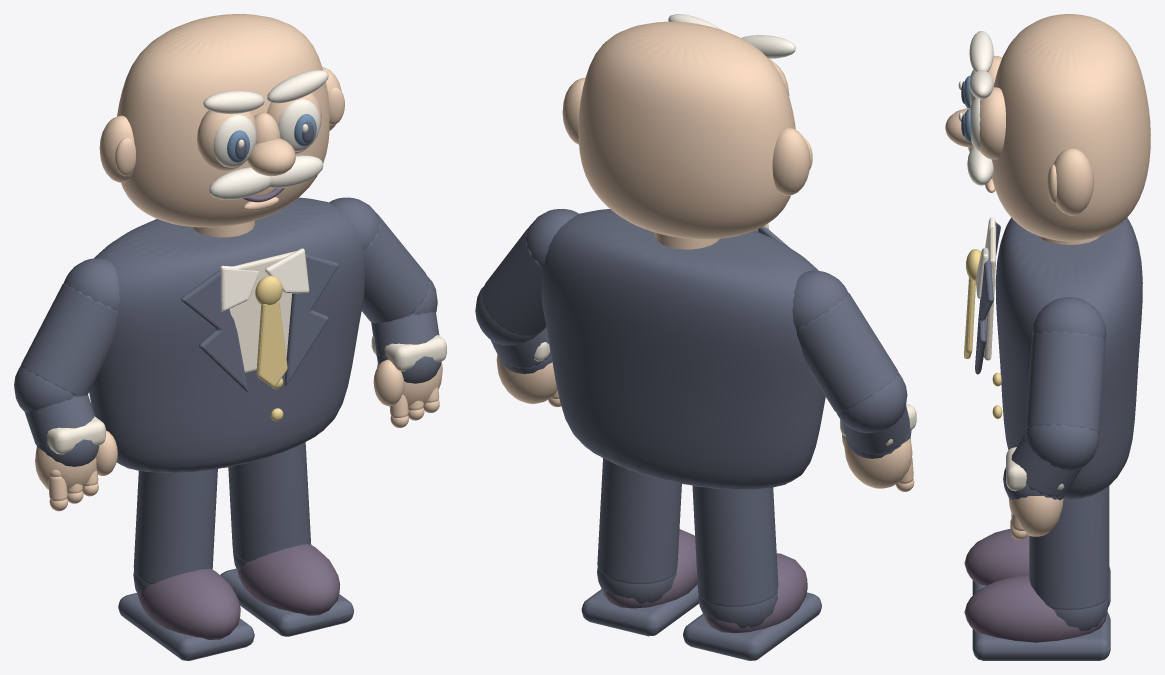
File: Bumble.fbx
3 renders of one model, left to right at view 1: azimuth 30°, elevation 25°; view 2: azimuth 150°, elevation 25°; view 3: azimuth 270°, elevation 25°, orthographic.
Visible parts, largest first — view 1: Tailored silhouette.002, Sculpted face.002, Trouser leg.004, Trouser leg.005, Upper sleeve.004, Polished shoe.004, Polished shoe.005, Upper sleeve.005, Notched lapel.004, Notched lapel.005, Shoe sole.004, Shoe sole.005 (+29 smaller); view 2: Tailored silhouette.002, Sculpted face.002, Trouser leg.004, Trouser leg.005, Upper sleeve.004, Upper sleeve.005, Shoe sole.004, Shoe sole.005, Upper sleeve joint.004, Polished shoe.004, Upper sleeve shoulder.004, Ear.004 (+12 smaller); view 3: Sculpted face.002, Tailored silhouette.002, Trouser leg.005, Upper sleeve.005, Polished shoe.005, Shoe sole.005, Polished shoe.004, Upper sleeve joint.005, Upper sleeve shoulder.005, Ear.005, Forearm.005, Palm.005 (+15 smaller).
Boxes of the visible parts, <box> form: Tailored silhouette.002: <box>89,197,364,473</box>; Sculpted face.002: <box>117,14,329,227</box>; Trouser leg.004: <box>133,469,217,583</box>; Trouser leg.005: <box>228,442,311,562</box>; Upper sleeve.004: <box>21,282,118,396</box>; Polished shoe.004: <box>137,568,240,639</box>; Polished shoe.005: <box>237,544,339,615</box>; Upper sleeve.005: <box>361,214,429,323</box>; Notched lapel.004: <box>181,270,247,392</box>; Notched lapel.005: <box>284,254,338,385</box>; Shoe sole.004: <box>118,593,254,660</box>; Shoe sole.005: <box>220,568,353,636</box>; Tailored silhouette.002: <box>541,209,825,489</box>; Sculpted face.002: <box>578,21,795,239</box>; Trouser leg.004: <box>692,485,778,606</box>; Trouser leg.005: <box>597,458,681,584</box>; Upper sleeve.004: <box>796,293,898,412</box>; Upper sleeve.005: <box>482,228,546,336</box>; Shoe sole.004: <box>683,592,821,660</box>; Shoe sole.005: <box>581,584,699,636</box>; Upper sleeve joint.004: <box>836,373,907,433</box>; Polished shoe.004: <box>704,553,807,633</box>; Upper sleeve shoulder.004: <box>792,270,848,330</box>; Ear.004: <box>772,127,810,195</box>; Sculpted face.002: <box>991,14,1150,241</box>; Tailored silhouette.002: <box>995,217,1142,499</box>; Trouser leg.005: <box>1029,486,1109,609</box>; Upper sleeve.005: <box>1026,331,1105,433</box>; Polished shoe.005: <box>964,575,1107,642</box>; Shoe sole.005: <box>972,613,1110,660</box>; Polished shoe.004: <box>964,528,1029,585</box>; Upper sleeve joint.005: <box>1025,424,1099,470</box>; Upper sleeve shoulder.005: <box>1032,297,1106,340</box>; Ear.005: <box>1053,148,1093,215</box>; Forearm.005: <box>1011,433,1081,496</box>; Palm.005: <box>1008,496,1063,536</box>.
Bounding box in the file's own units: 175 × 74.56 × 236.
